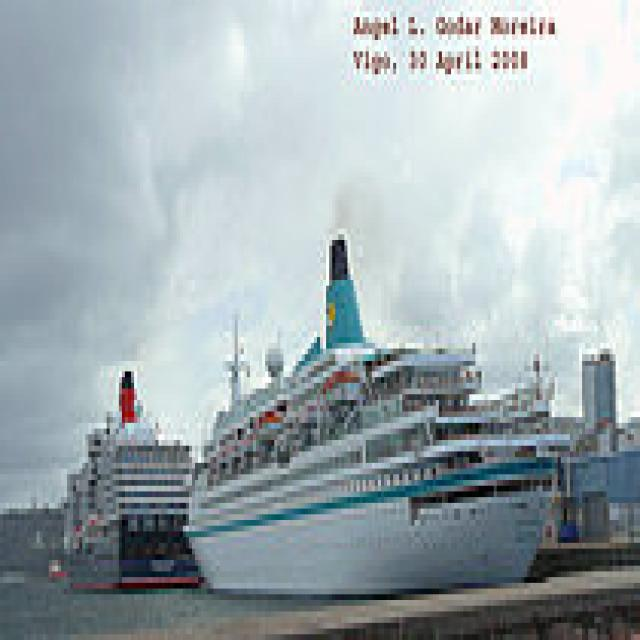Cruise: (177, 223, 561, 594), (55, 360, 201, 594)
